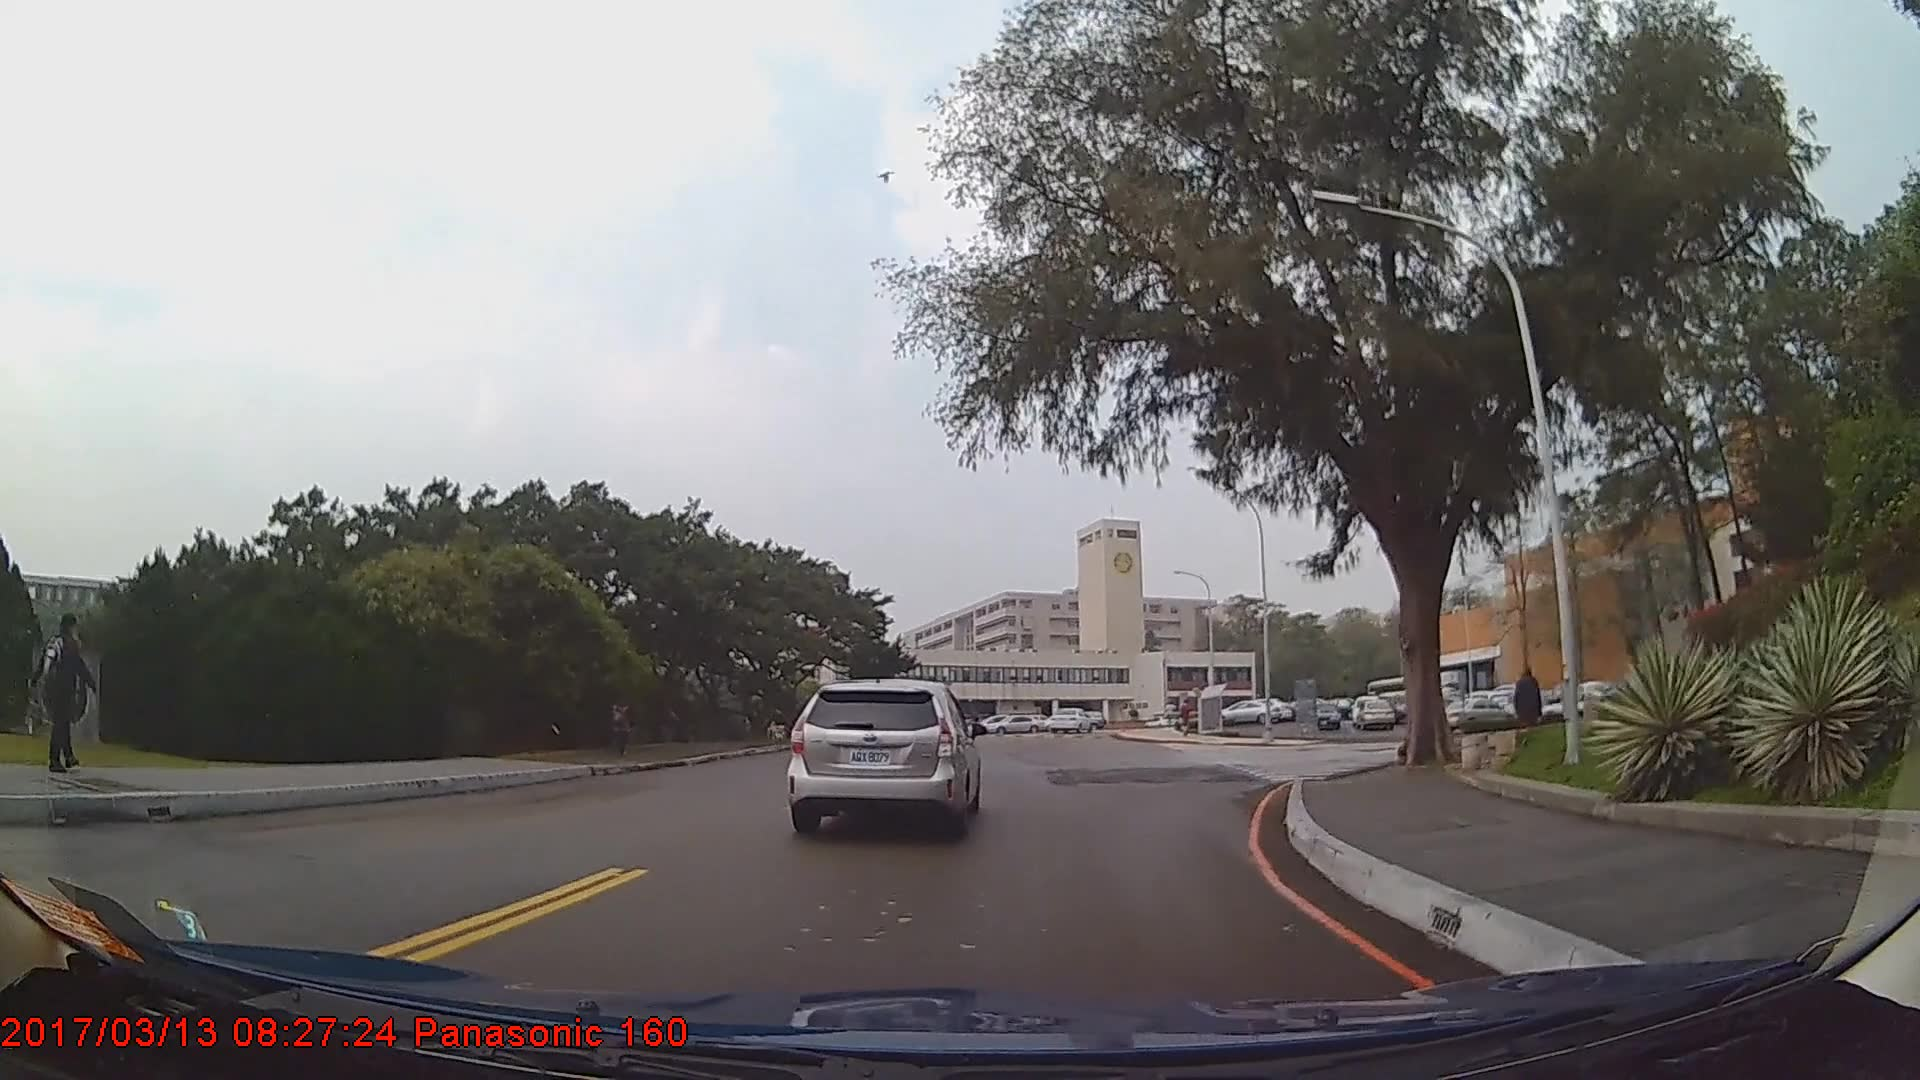pedestrian: (35, 606, 107, 776), (1513, 664, 1549, 764)
vehicle: (786, 673, 977, 835), (1442, 699, 1514, 728), (1218, 699, 1279, 726), (983, 707, 1045, 732), (1355, 696, 1397, 731), (1044, 708, 1093, 735), (1310, 699, 1340, 727)
